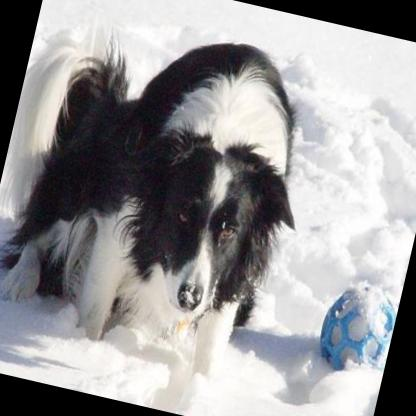Border_collie: (0, 0, 334, 390)
